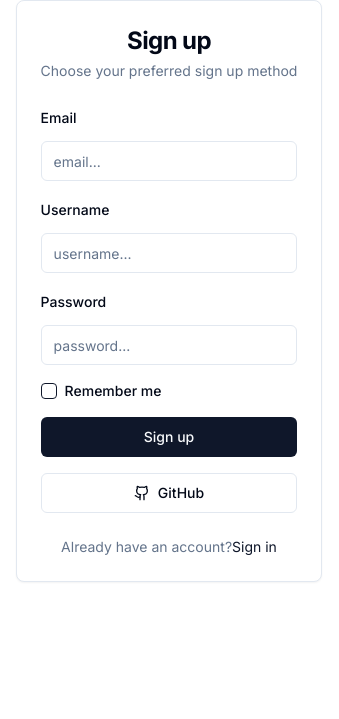
Test: SignUp › shows success message on valid submit
Type "test@gmail.com" into the field labelled "Email".
click(169, 161); type("test@gmail.com")  # box [41,141,297,181]
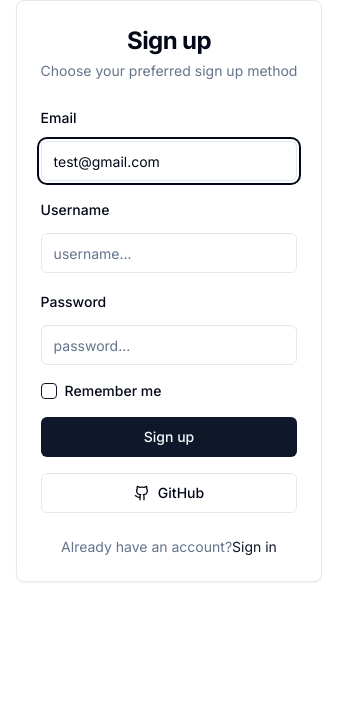
Type "test-username" into the field labelled "Username".
click(169, 253); type("test-username")  # box [41,233,297,273]
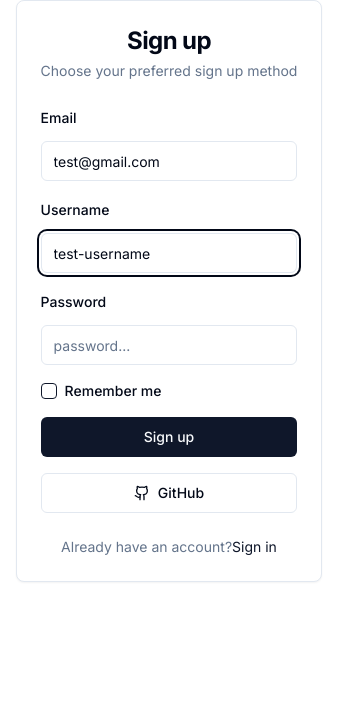
Type "testPass" into the password field labelled "Password".
click(169, 345); type("testPass")  # box [41,325,297,365]
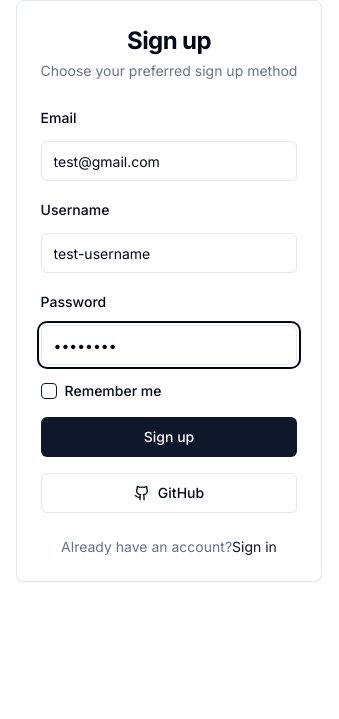
Click the checkbox named "Remember me".
click(49, 391)  # box [41,383,57,399]
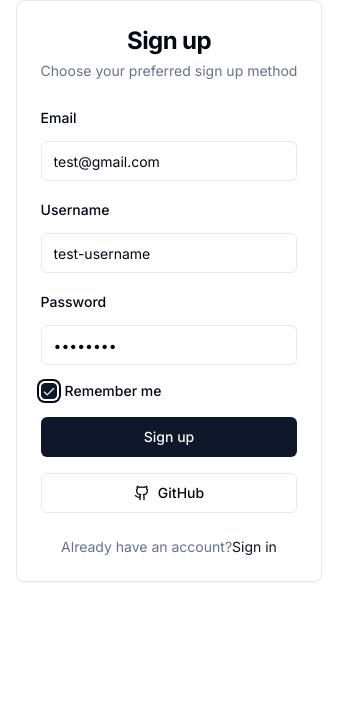
Click the button "Sign up".
click(169, 437)  # box [41,417,297,457]
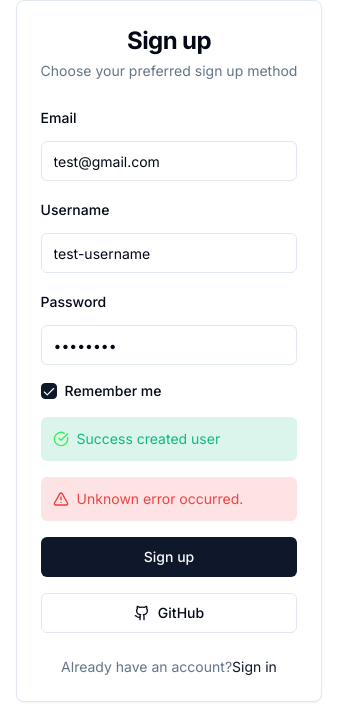
expect the text "Success created user" is shown: met, box [41,417,297,461]
